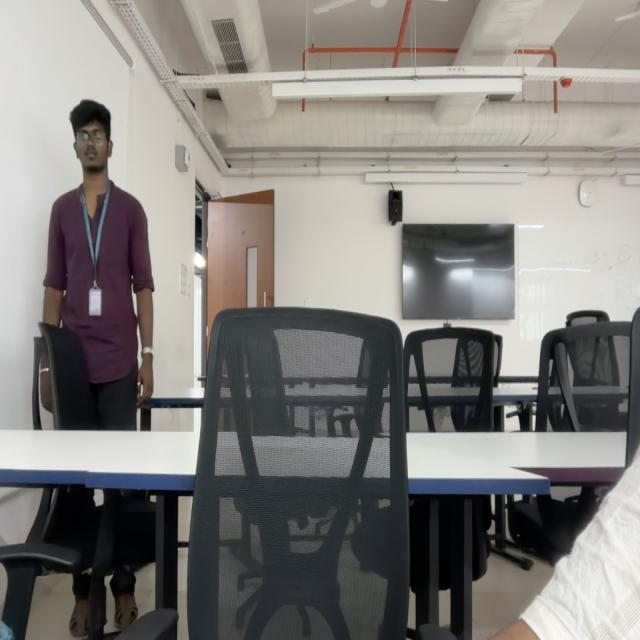ravindra: (68, 98, 114, 178)
